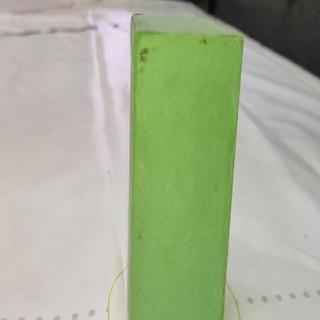greenbox: (129, 12, 244, 320)
